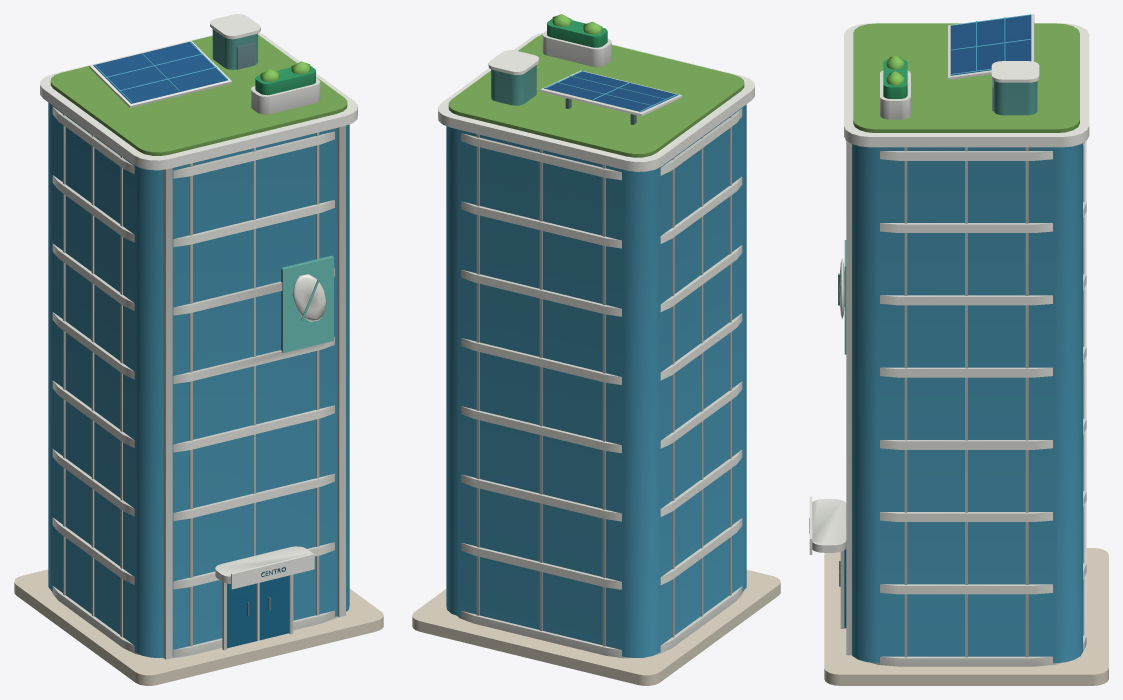
File: office-glass-low.glb
3 renders of one model, left to right at view 1: azimuth 30°, elevation 25°; view 2: azimuth 150°, elevation 25°; view 3: azimuth 270°, elevation 25°, orthographic. The views are drawn at different scales.
Visible parts, largest first — view 1: continuous blue glazing, glass vertical mullion, green roof, tower foundation, photovoltaic cells, roof access, recessed entrance, planter foliage; view 2: continuous blue glazing, glass vertical mullion, green roof, tower foundation, photovoltaic cells, roof access, planter foliage; view 3: continuous blue glazing, glass vertical mullion, green roof, tower foundation, photovoltaic cells, roof access, planter foliage.
Part boxes in pixels (<box>): continuous blue glazing: <box>48,41,349,657</box>; glass vertical mullion: <box>40,14,357,659</box>; green roof: <box>50,35,347,155</box>; tower foundation: <box>14,569,383,685</box>; photovoltaic cells: <box>93,41,228,103</box>; roof access: <box>212,29,333,352</box>; recessed entrance: <box>227,575,288,648</box>; planter foliage: <box>255,66,315,95</box>; continuous blue glazing: <box>446,70,746,657</box>; glass vertical mullion: <box>438,30,754,658</box>; green roof: <box>448,34,744,157</box>; tower foundation: <box>412,570,780,685</box>; photovoltaic cells: <box>544,71,678,111</box>; roof access: <box>491,65,536,105</box>; planter foliage: <box>547,18,607,47</box>; continuous blue glazing: <box>852,14,1082,663</box>; glass vertical mullion: <box>809,14,1089,666</box>; green roof: <box>853,23,1079,132</box>; tower foundation: <box>824,548,1108,685</box>; photovoltaic cells: <box>950,14,1031,75</box>; roof access: <box>838,81,1037,354</box>; planter foliage: <box>883,59,907,98</box>.
Bounding box in the file's own units: 2.9 × 6.25 × 2.9.
